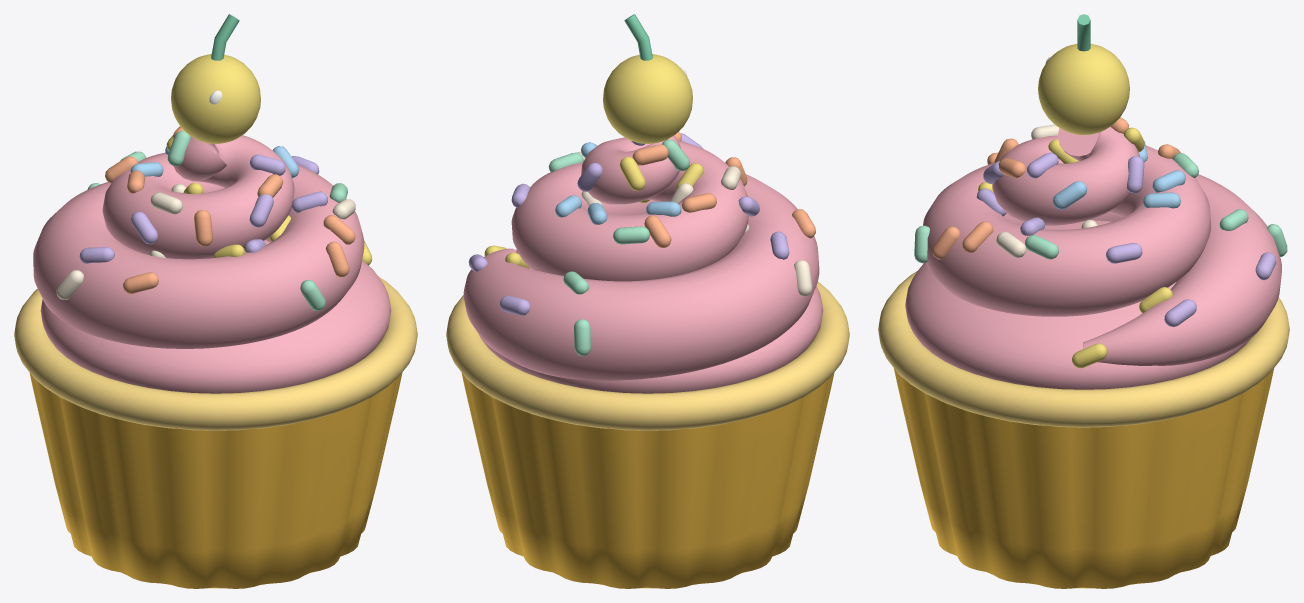
The model's file is golden_cupcake.glb.
The picture shows the model from 3 angles, left to right: view 1: azimuth 30°, elevation 25°; view 2: azimuth 150°, elevation 25°; view 3: azimuth 270°, elevation 25°; orthographic projection.
Visible parts, largest first — view 1: golden_cupcake; view 2: golden_cupcake; view 3: golden_cupcake.
Part boxes in pixels (x1,y1,x2,y2): golden_cupcake: [14, 14, 417, 588]; golden_cupcake: [446, 14, 849, 588]; golden_cupcake: [878, 14, 1289, 588].
Bounding box in the file's own units: 0.7121 × 1 × 0.7121.
